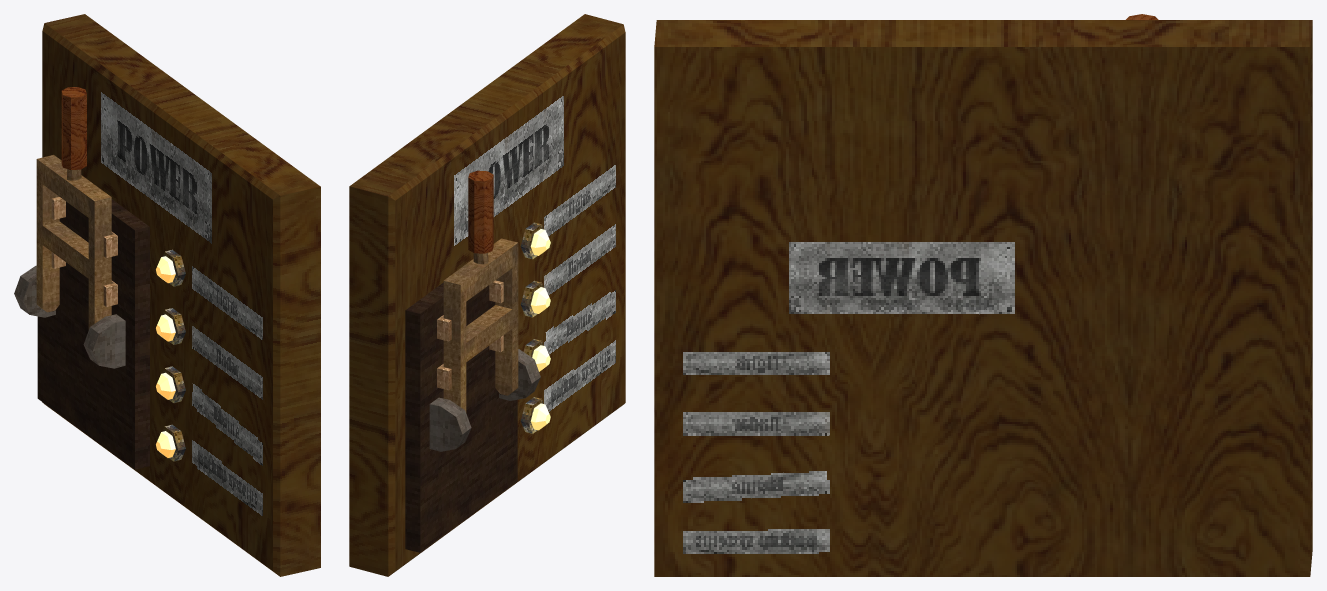
File: power_panel.glb
3 views of the same model, side by side, from view 1: azimuth 30°, elevation 25°; view 2: azimuth 150°, elevation 25°; view 3: azimuth 270°, elevation 25° (orthographic). The views are drawn at different scales.
Parts seen in each view (by area): view 1: power_board, switch_board, switch_handle, switch_hinges, Circle.001, Circle.002, Circle.003, Circle, Cube.008, Cube.009; view 2: power_board, switch_board, switch_handle, switch_hinges, Circle.003, Circle, Circle.001, Cube.008, Circle.002, Cube.009; view 3: power_board.
Boxes of the visible parts, left/top/right/bottom form: power_board: left=42, top=14, right=320, bottom=576; switch_board: left=37, top=199, right=149, bottom=469; switch_handle: left=36, top=87, right=111, bottom=329; switch_hinges: left=14, top=265, right=125, bottom=368; Circle.001: left=156, top=308, right=185, bottom=344; Circle.002: left=156, top=366, right=185, bottom=402; Circle.003: left=156, top=424, right=185, bottom=461; Circle: left=156, top=249, right=185, bottom=286; Cube.008: left=51, top=197, right=117, bottom=257; Cube.009: left=51, top=252, right=117, bottom=306; power_board: left=349, top=14, right=625, bottom=576; switch_board: left=405, top=282, right=517, bottom=552; switch_handle: left=443, top=170, right=518, bottom=412; switch_hinges: left=429, top=349, right=540, bottom=451; Circle.003: left=520, top=397, right=550, bottom=433; Circle: left=520, top=222, right=550, bottom=259; Circle.001: left=520, top=280, right=550, bottom=317; Cube.008: left=437, top=280, right=503, bottom=341; Circle.002: left=523, top=339, right=550, bottom=371; Cube.009: left=437, top=335, right=503, bottom=390; power_board: left=654, top=20, right=1312, bottom=576.
Size of the model in its own units: 0.2249 by 0.8898 by 1.
Materials: 8 (7 with a texture image).
